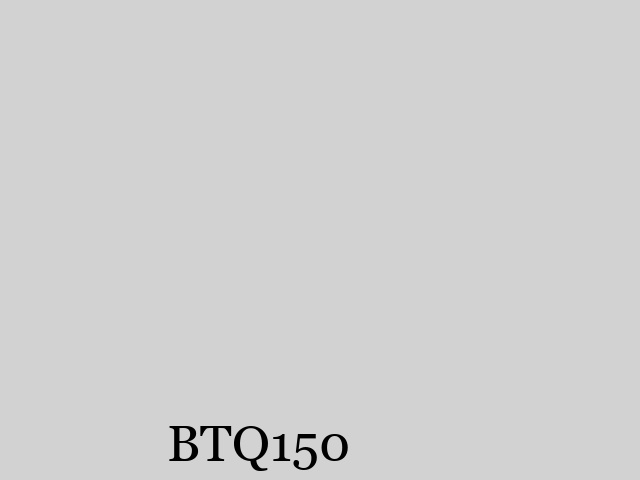OCR_AREA: (163, 422, 354, 475)
